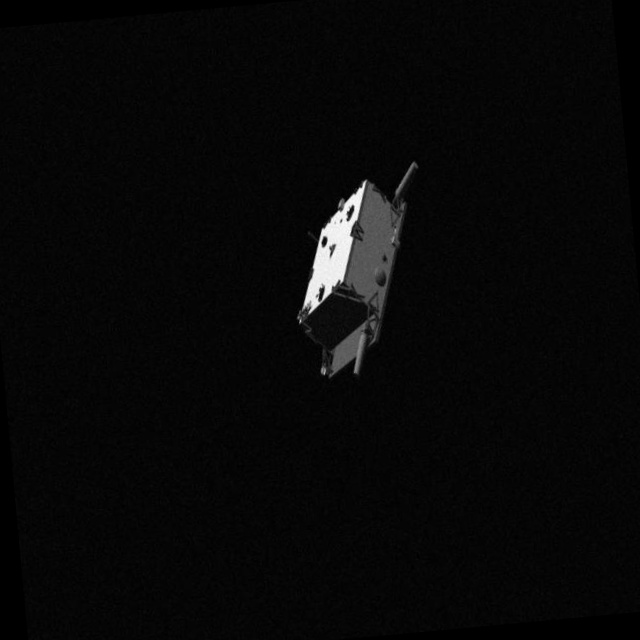medium_debris: (281, 141, 447, 386)
